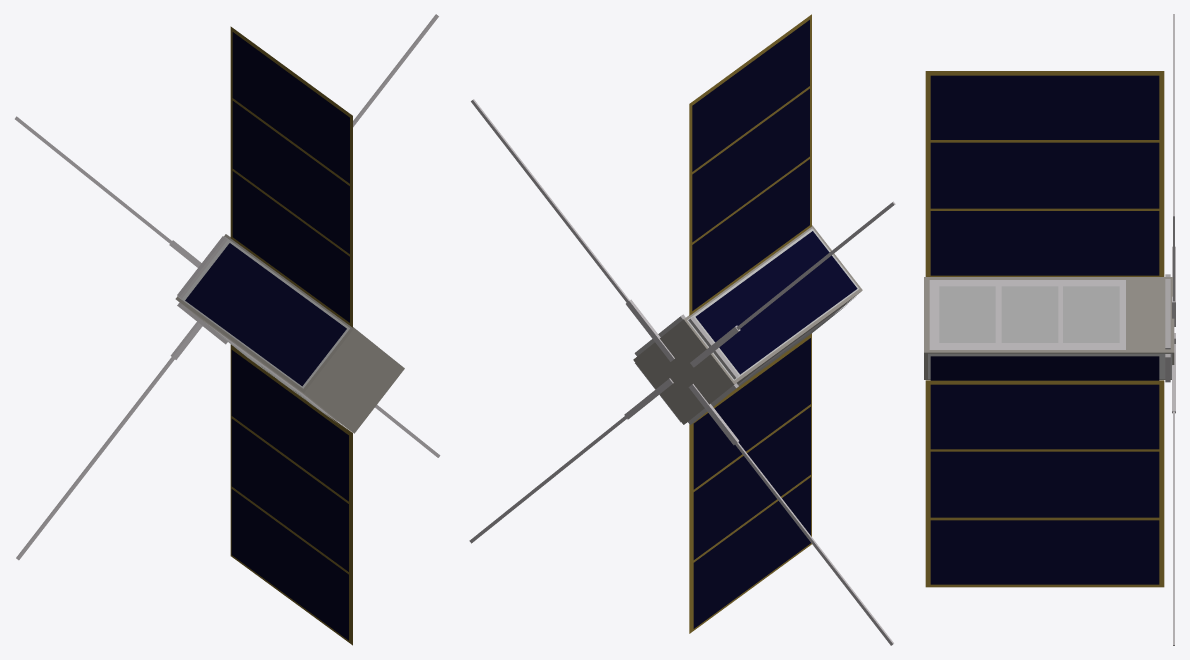
File: lemur2_med.gltf
3 renders of one model, left to right at view 1: azimuth 30°, elevation 25°; view 2: azimuth 150°, elevation 25°; view 3: azimuth 270°, elevation 25°, orthographic. The views are drawn at different scales.
Visible parts, largest first — view 1: Plane.004, Plane.015, Plane.005, Plane.006, Plane.017, Plane.016, Plane.014, Cube, Plane.021, Plane.012, Plane.008, Cube.007 (+2 smaller); view 2: Plane.004, Plane.015, Plane.005, Plane.016, Plane.017, Plane.014, Plane.006, Cube, Plane.021, Plane.012, Cube.007, Cube.011 (+3 smaller); view 3: Plane.155, Plane.000, Plane.002, Plane.023, Plane.001, Plane.022, Plane.013, Plane.003, Plane.011, Cube, Plane.010, Plane.150 (+6 smaller).
Part boxes in pixels (x1,y1,x2,y2): Plane.004: [185, 243, 346, 386]; Plane.015: [232, 101, 349, 253]; Plane.005: [231, 419, 348, 571]; Plane.006: [231, 350, 348, 501]; Plane.017: [232, 171, 349, 322]; Plane.016: [232, 32, 349, 183]; Plane.014: [231, 489, 348, 640]; Cube: [175, 234, 404, 433]; Plane.021: [230, 26, 352, 327]; Plane.012: [230, 344, 352, 645]; Plane.008: [178, 236, 349, 388]; Cube.007: [16, 357, 174, 560]; Plane.004: [695, 231, 857, 374]; Plane.015: [692, 88, 809, 242]; Plane.005: [693, 407, 810, 559]; Plane.016: [692, 20, 809, 171]; Plane.017: [692, 159, 809, 310]; Plane.014: [693, 477, 810, 628]; Plane.006: [693, 338, 810, 489]; Cube: [633, 225, 862, 424]; Plane.021: [689, 14, 811, 315]; Plane.012: [689, 333, 811, 633]; Cube.007: [735, 442, 893, 645]; Cube.011: [471, 99, 629, 302]; Plane.155: [930, 142, 1159, 208]; Plane.000: [930, 451, 1159, 517]; Plane.002: [930, 384, 1159, 449]; Plane.023: [930, 211, 1159, 275]; Plane.001: [930, 520, 1159, 584]; Plane.022: [930, 75, 1159, 139]; Plane.013: [925, 380, 1164, 587]; Plane.003: [930, 356, 1159, 380]; Plane.011: [925, 71, 1164, 276]; Cube: [924, 277, 1174, 379]; Plane.010: [929, 280, 1125, 349]; Plane.150: [1001, 286, 1058, 342].
Size of the model in its own units: 11.89 by 14.17 by 6.27.
